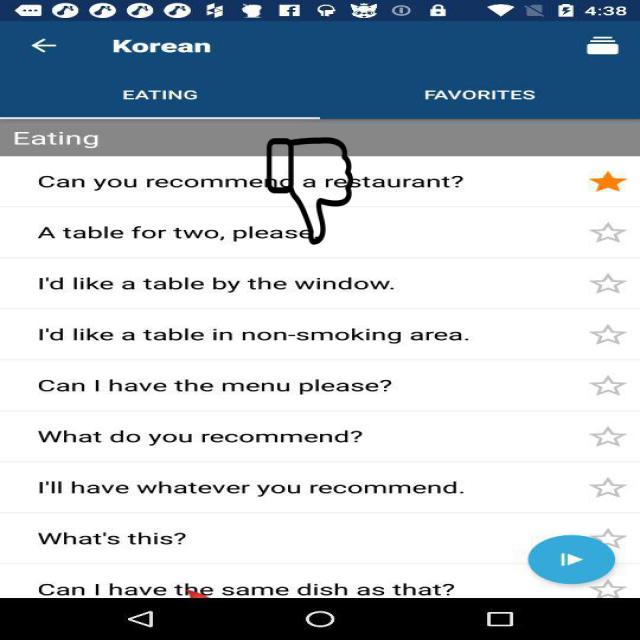obstruction: (266, 137, 354, 245)
